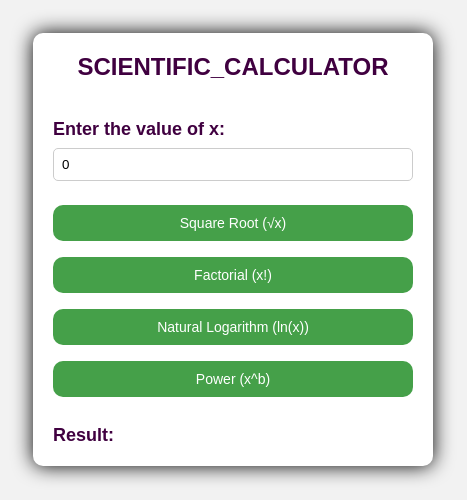
calculates power correctly
Replace the text in the number field with "2" at (233, 164), box [53,148,413,181]
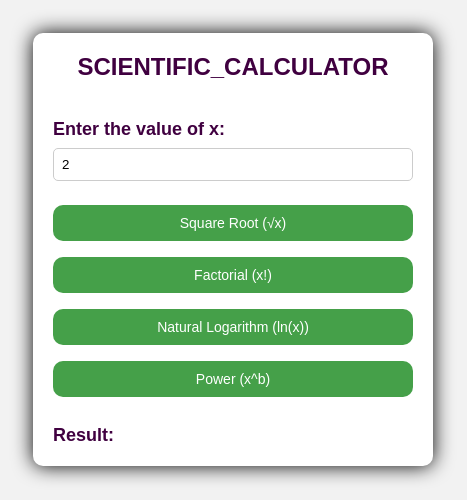
Click the button "Power (x^b)" at (233, 379), box [53,361,413,397]
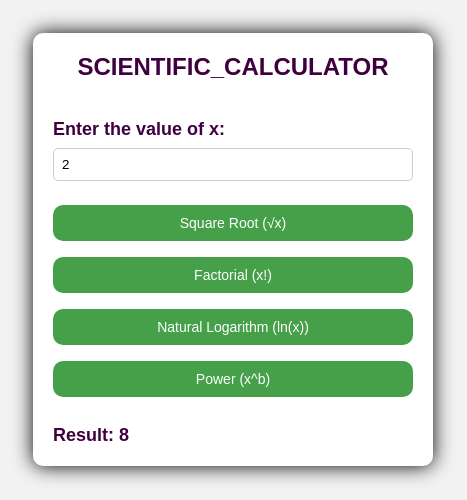
Now the heading "Result: 8" is shown, box [53,425,129,445]
